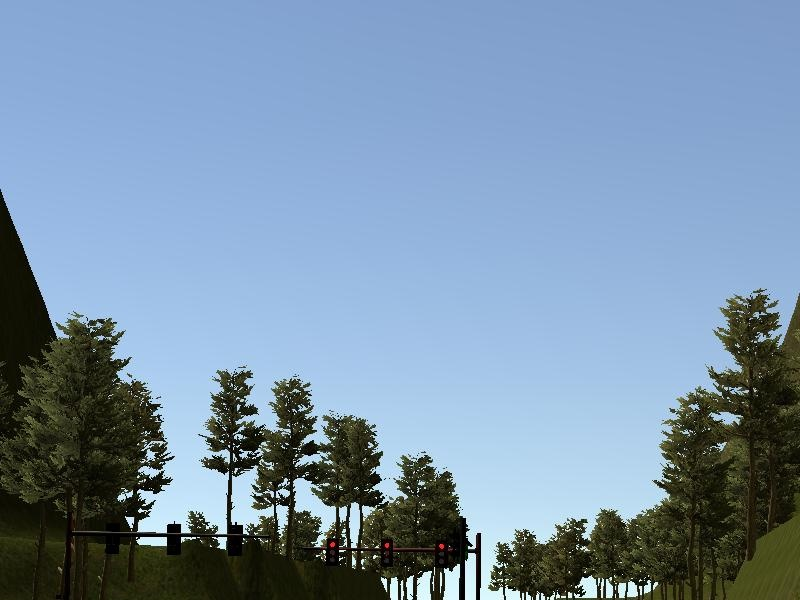Red: (434, 539, 448, 569), (325, 538, 339, 566), (380, 539, 393, 568)
